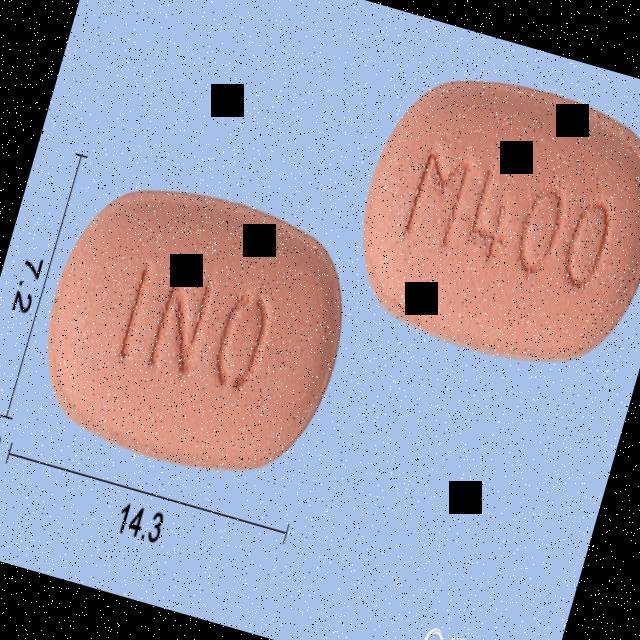Moveloxin: (20, 161, 369, 497), (335, 51, 640, 385)
